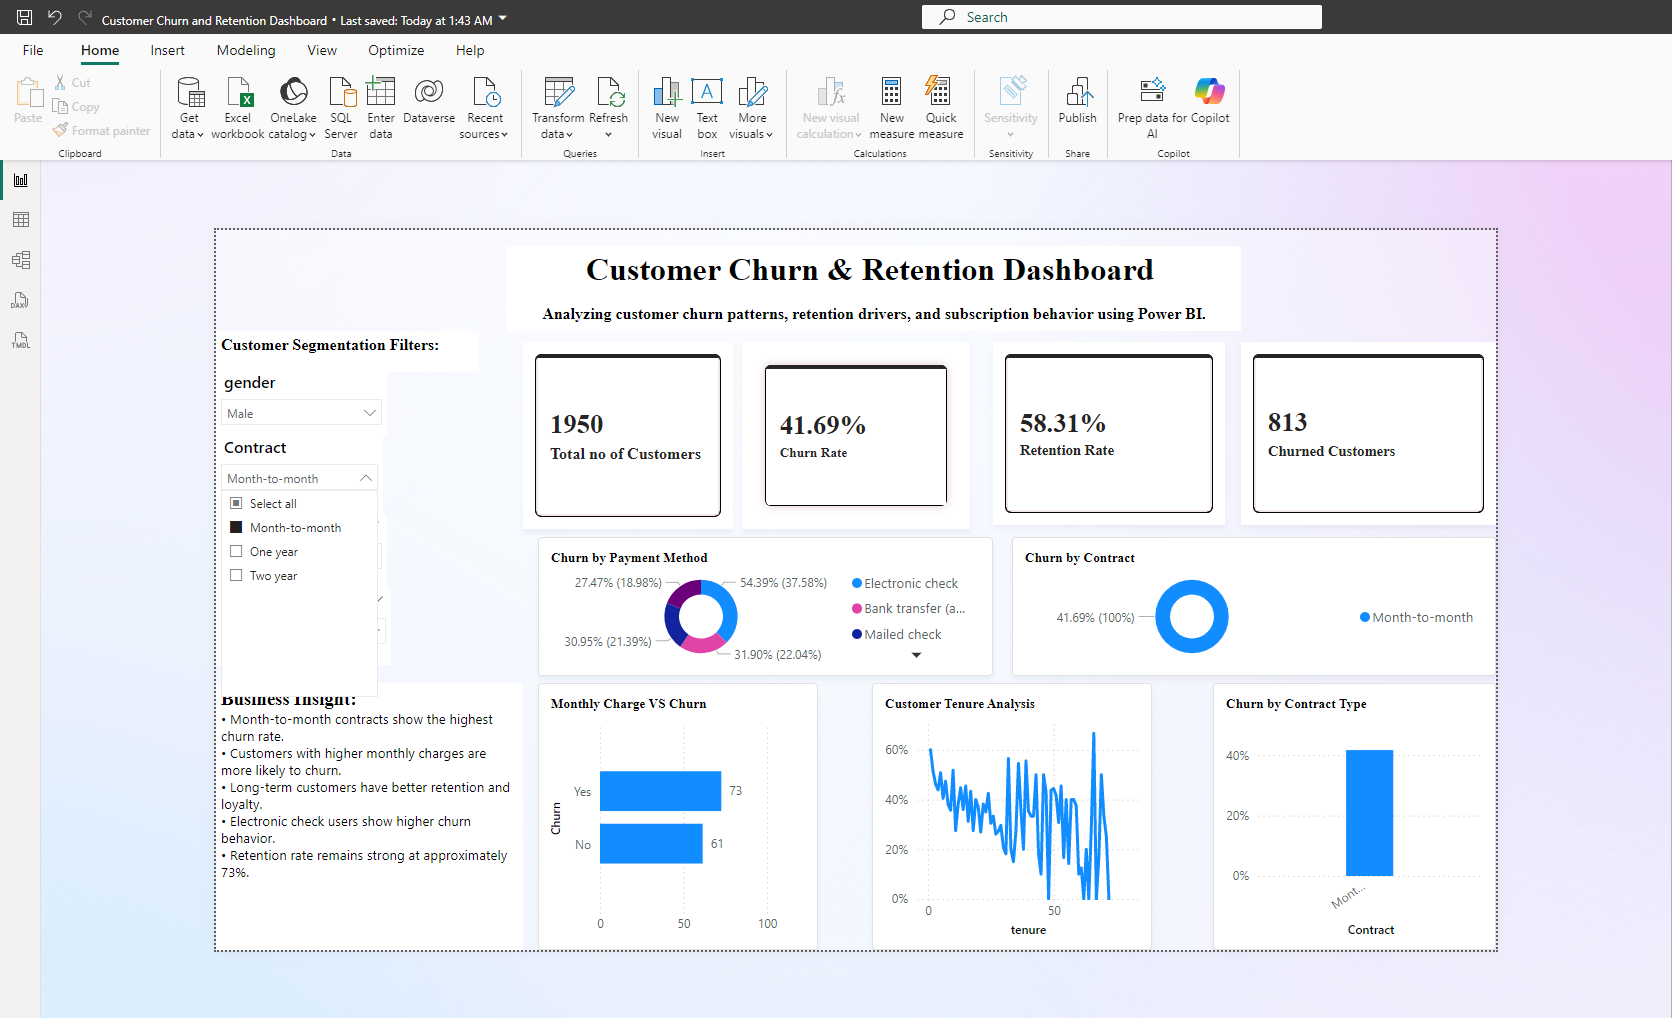

Layout of this report page (visuals, bound fields, positions):
{"tool":"powerbi","page":{"name":"Page 1","canvas":[1280,720],"ordinal":0},"visuals":[{"type":"cardVisual","fields":{"Data":["Sum(cleaned_churn_data.ChurnValue)"]},"box":[1025,112,255,183],"z":0},{"type":"cardVisual","fields":{"Data":["Count(cleaned_churn_data.customerID)"]},"box":[307,112,210,187],"z":1000},{"type":"cardVisual","fields":{"Data":["cleaned_churn_data.Churn Rate"]},"box":[526,112,228,187],"z":2000},{"type":"cardVisual","fields":{"Data":["cleaned_churn_data.Retention Rate"]},"box":[777,112,232,183],"z":3000},{"type":"clusteredColumnChart","title":"Churn by Contract Type","fields":{"Y":["cleaned_churn_data.Churn Percentage"],"Category":["cleaned_churn_data.Contract"]},"box":[997,453,283,267],"z":4000},{"type":"donutChart","title":"Churn  by Payment Method","fields":{"Category":["cleaned_churn_data.PaymentMethod"],"Y":["cleaned_churn_data.Churn Percentage"]},"box":[322,307,455,139],"z":5000},{"type":"donutChart","title":"Churn by Contract","fields":{"Y":["cleaned_churn_data.Churn Percentage"],"Category":["cleaned_churn_data.Contract"]},"box":[796,307,484,139],"z":6000},{"type":"clusteredBarChart","title":"Monthly Charge VS Churn ","fields":{"Category":["cleaned_churn_data.Churn"],"Y":["Avg(cleaned_churn_data.MonthlyCharges)"]},"box":[322,453,280,267],"z":7000},{"type":"lineChart","title":"Customer Tenure Analysis","fields":{"Category":["cleaned_churn_data.tenure"],"Y":["cleaned_churn_data.Churn Percentage"]},"box":[656,453,280,267],"z":8000},{"type":"slicer","fields":{"Values":["cleaned_churn_data.gender"]},"box":[0,141,171,65],"z":9000},{"type":"slicer","fields":{"Values":["cleaned_churn_data.Contract"]},"box":[0,206,167,79],"z":10000},{"type":"slicer","fields":{"Values":["cleaned_churn_data.InternetService"]},"box":[0,285,171,75],"z":10001},{"type":"slicer","fields":{"Values":["cleaned_churn_data.PaymentMethod"]},"box":[0,360,175,75],"z":10002},{"type":"textbox","box":[291,16,734,85],"z":10003},{"type":"textbox","box":[0,453,307,267],"z":10004},{"type":"textbox","box":[0,101,263,41],"z":10005}]}

Visuals, with their boxes on the page's 1280x720 design canvas (x1, y1, x2, y2). These are canvas units, not pixel positions in the 1672x1018 screenshot, which may show the page scaled, cropped or inside an application window:
cardVisual - Sum(cleaned_churn_data.ChurnValue): <region>1025, 112, 1280, 295</region>
cardVisual - Count(cleaned_churn_data.customerID): <region>307, 112, 517, 299</region>
cardVisual - cleaned_churn_data.Churn Rate: <region>526, 112, 754, 299</region>
cardVisual - cleaned_churn_data.Retention Rate: <region>777, 112, 1009, 295</region>
"Churn by Contract Type" clusteredColumnChart: <region>997, 453, 1280, 720</region>
"Churn  by Payment Method" donutChart: <region>322, 307, 777, 446</region>
"Churn by Contract" donutChart: <region>796, 307, 1280, 446</region>
"Monthly Charge VS Churn " clusteredBarChart: <region>322, 453, 602, 720</region>
"Customer Tenure Analysis" lineChart: <region>656, 453, 936, 720</region>
slicer - cleaned_churn_data.gender: <region>0, 141, 171, 206</region>
slicer - cleaned_churn_data.Contract: <region>0, 206, 167, 285</region>
slicer - cleaned_churn_data.InternetService: <region>0, 285, 171, 360</region>
slicer - cleaned_churn_data.PaymentMethod: <region>0, 360, 175, 435</region>
textbox: <region>291, 16, 1025, 101</region>
textbox: <region>0, 453, 307, 720</region>
textbox: <region>0, 101, 263, 142</region>
